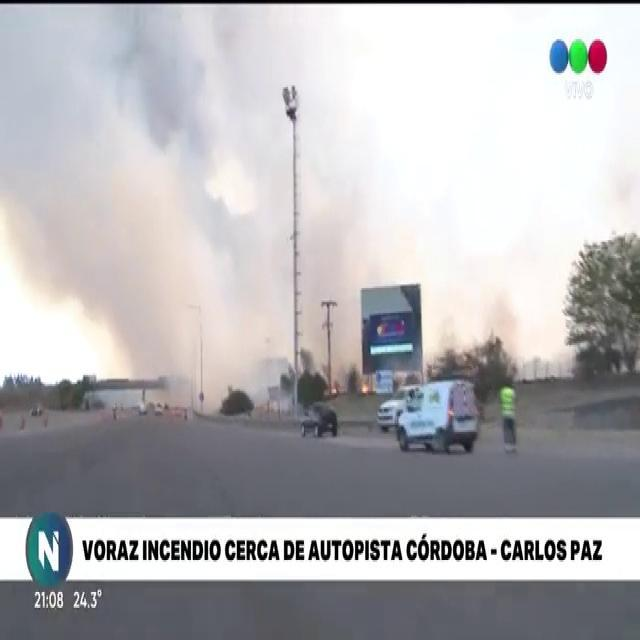Fire: (360, 381, 370, 396)
Smoke: (25, 47, 264, 359)
